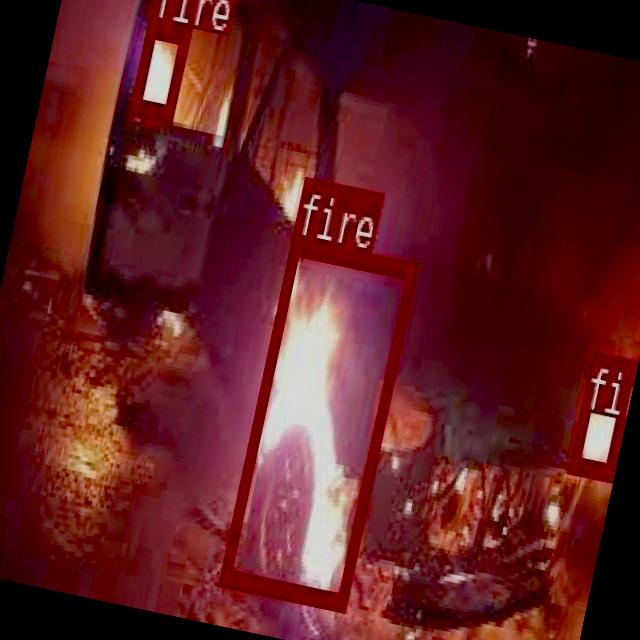fire: (219, 234, 416, 606), (567, 348, 635, 476), (128, 16, 190, 118)
